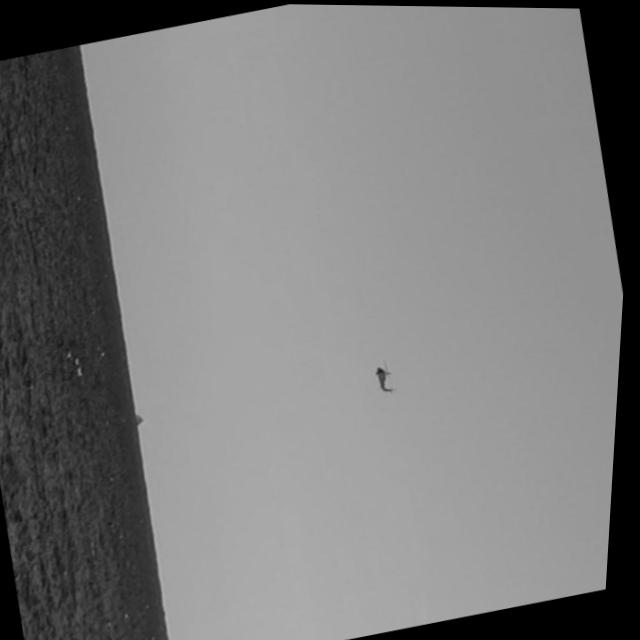helikopter: (342, 330, 437, 429)
